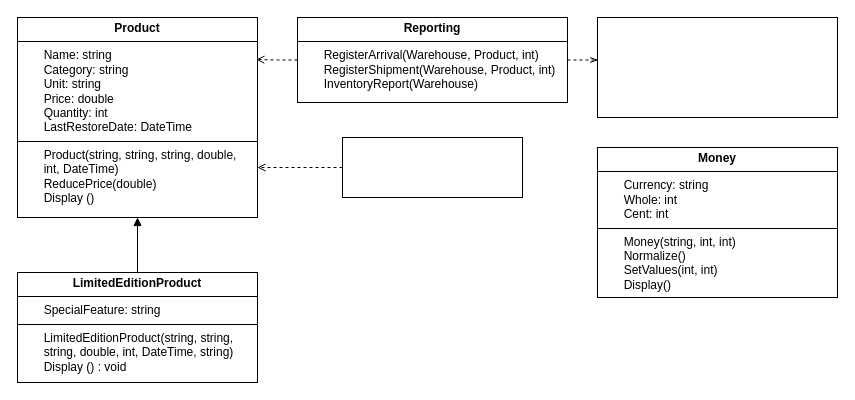
Image size: 855x400. Some labels were removed from this diagram. The centre of each missing label's shape, as x and y in pixels:
AddNewItem Product CreateProduct(): (x=432, y=167)
Wareh ouse Products: List<Product> AddProduct(Product) DisplayProducts(): (x=717, y=67)
